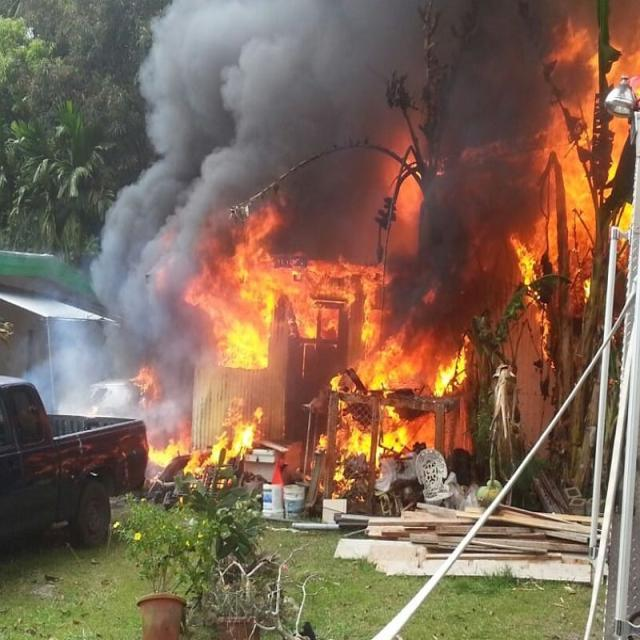Fire: (182, 286, 468, 504), (516, 16, 640, 314)
Smoke: (142, 1, 406, 282)
